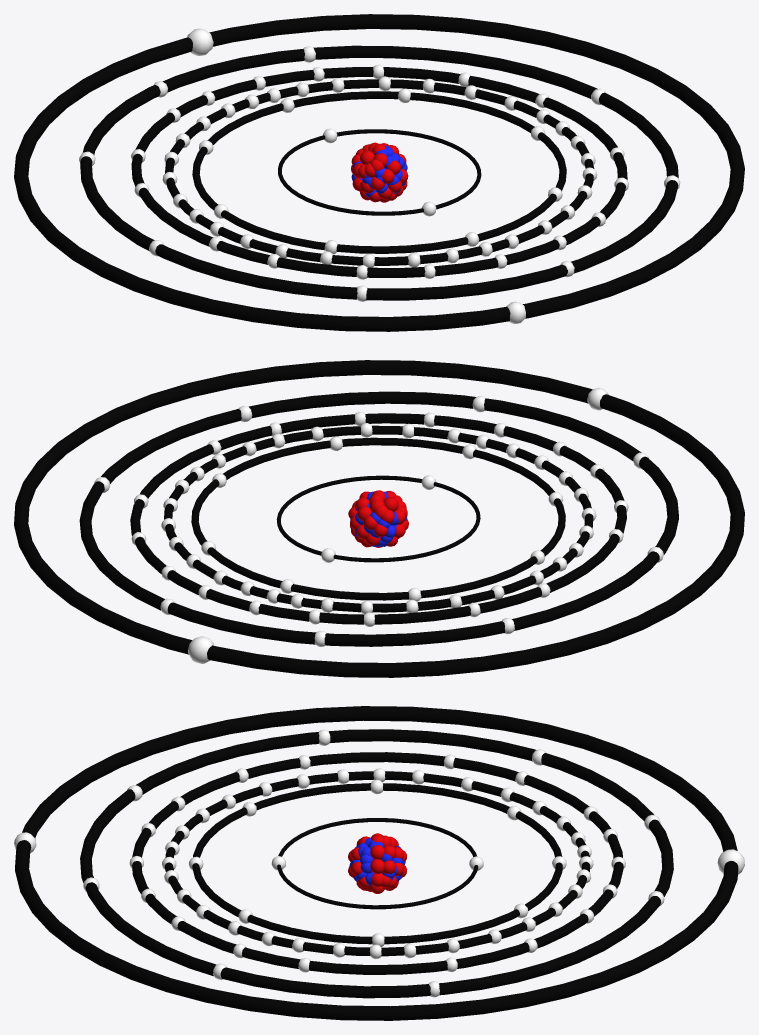
Rendered from 52 Telurio.fbx.
The picture shows the model from 3 angles, top to bottom: view 1: azimuth 30°, elevation 25°; view 2: azimuth 150°, elevation 25°; view 3: azimuth 270°, elevation 25°; orthographic projection.
Parts seen in each view (by area): view 1: Orbita.006, Orbita.005, Orbita.004, Orbita.003, Orbita.002, Electron.111, Orbita.001, Electron.093; view 2: Orbita.006, Orbita.005, Orbita.004, Orbita.003, Orbita.002, Electron.111, Orbita.001; view 3: Orbita.006, Orbita.005, Orbita.004, Orbita.003, Orbita.002, Electron.111, Orbita.001.
Boxes of the visible parts, left/top/right/bottom form: Orbita.006: left=14, top=14, right=744, bottom=331; Orbita.005: left=80, top=45, right=678, bottom=300; Orbita.004: left=131, top=67, right=627, bottom=277; Orbita.003: left=165, top=79, right=594, bottom=265; Orbita.002: left=192, top=91, right=566, bottom=253; Electron.111: left=351, top=142, right=408, bottom=202; Orbita.001: left=278, top=129, right=481, bottom=215; Electron.093: left=187, top=28, right=213, bottom=55; Orbita.006: left=14, top=360, right=744, bottom=677; Orbita.005: left=79, top=391, right=678, bottom=646; Orbita.004: left=130, top=413, right=626, bottom=624; Orbita.003: left=164, top=425, right=593, bottom=612; Orbita.002: left=191, top=437, right=565, bottom=600; Electron.111: left=348, top=490, right=408, bottom=547; Orbita.001: left=276, top=475, right=480, bottom=562; Orbita.006: left=15, top=706, right=738, bottom=1020; Orbita.005: left=80, top=729, right=673, bottom=998; Orbita.004: left=132, top=752, right=623, bottom=974; Orbita.003: left=164, top=771, right=590, bottom=956; Orbita.002: left=192, top=783, right=562, bottom=944; Electron.111: left=348, top=833, right=406, bottom=893; Orbita.001: left=277, top=818, right=478, bottom=909.
Size of the model in its own units: 33.81 by 33.5 by 2.85.
